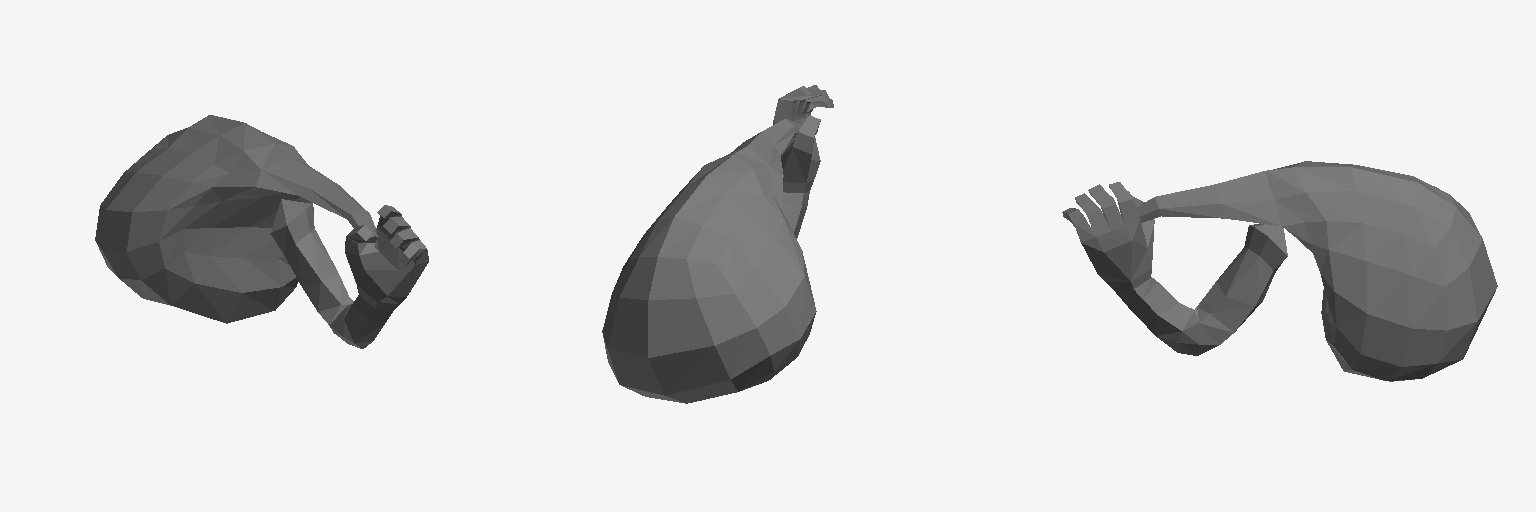
The model's file is leftarm.obj.
The picture shows the model from 3 angles: view 1: azimuth 30°, elevation 25°; view 2: azimuth 150°, elevation 25°; view 3: azimuth 270°, elevation 25°; orthographic projection.
Visible parts, largest first — view 1: leftarm; view 2: leftarm; view 3: leftarm.
Boxes of the visible parts, box(x1,y1,x2,y2) form: leftarm: box(95, 115, 428, 348); leftarm: box(602, 85, 833, 403); leftarm: box(1062, 161, 1497, 381).
Size of the model in its own units: 16.62 by 17.21 by 33.54.